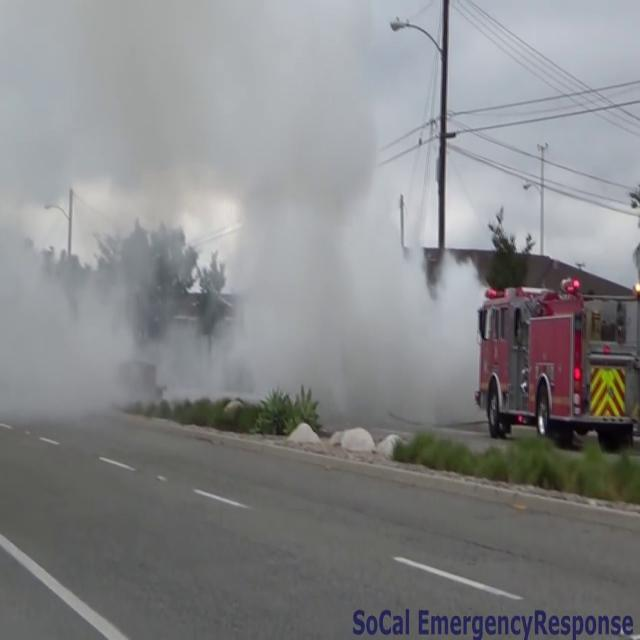Smoke: (0, 16, 491, 433)
